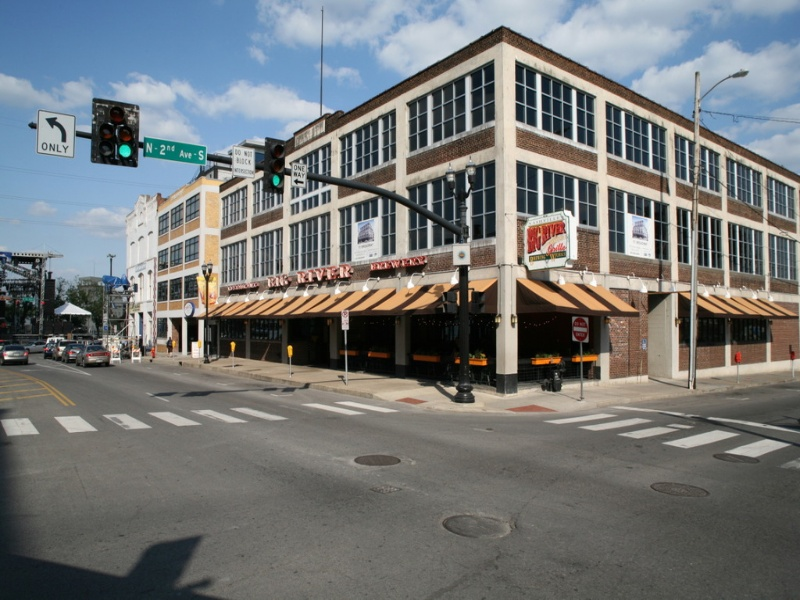green_light: (93, 100, 146, 174), (257, 137, 295, 199)
